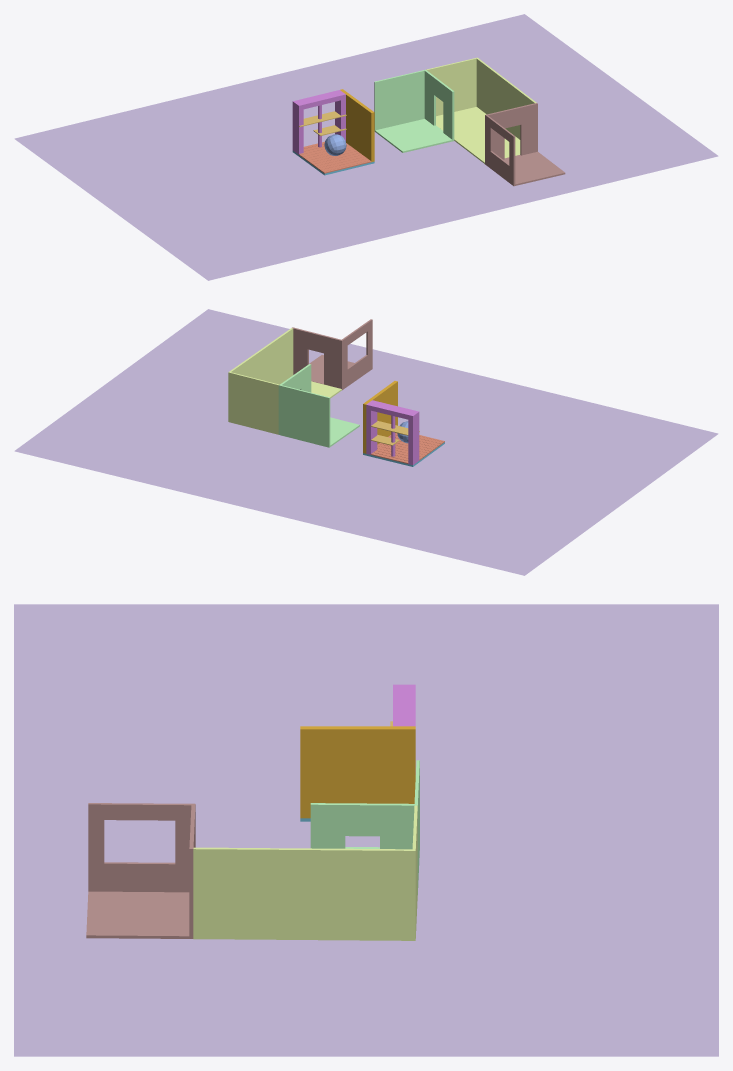
File: room2.fbx
3 renders of one model, top to bottom at view 1: azimuth 30°, elevation 25°; view 2: azimuth 150°, elevation 25°; view 3: azimuth 270°, elevation 25°, orthographic. The views are drawn at different scales.
Parts seen in each view (by area): view 1: Plane.001, Plane, Pared, Arco, Tabla_ini; view 2: Plane.001, Plane, Arco, Pared, Tabla_ini; view 3: Plane.001, Plane, Pared, Arco.
Boxes of the visible parts, box(x1,y1,x2,y2) form: Plane.001: box(14, 14, 718, 280); Plane: box(374, 57, 565, 186); Pared: box(340, 89, 374, 162); Arco: box(292, 90, 345, 154); Tabla_ini: box(300, 143, 369, 172); Plane.001: box(14, 309, 718, 575); Plane: box(228, 319, 372, 447); Arco: box(366, 400, 419, 464); Pared: box(363, 381, 397, 453); Tabla_ini: box(377, 432, 443, 459); Plane.001: box(14, 604, 718, 1056); Plane: box(86, 760, 419, 940); Pared: box(300, 726, 415, 818); Arco: box(393, 684, 415, 726).
Size of the model in its own units: 2176 by 207 by 1433.
